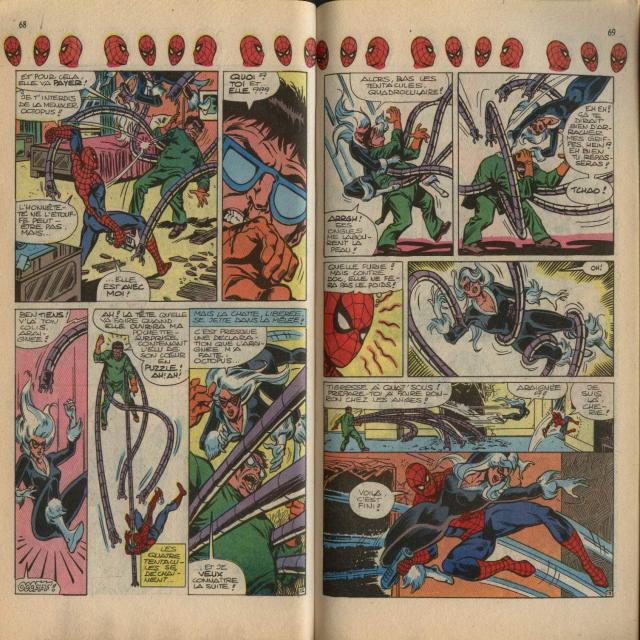comic_panel: (15, 68, 218, 304), (320, 450, 616, 600), (187, 307, 309, 597), (456, 70, 616, 258), (89, 306, 187, 594), (322, 70, 456, 258), (407, 260, 615, 378), (321, 379, 616, 456), (13, 306, 89, 598), (222, 69, 310, 301), (322, 261, 404, 378)
